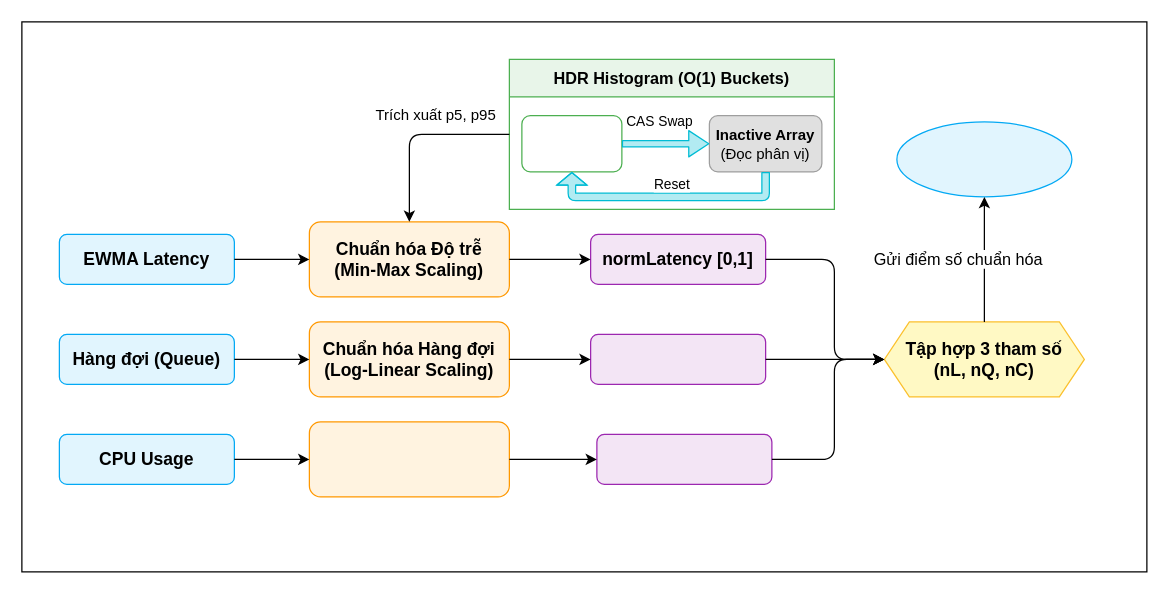
This 1169x594 diagram has some shape labels left out. The centre of each missing label's shape, as x and y in pixels:
Active Array (Ghi dữ liệu): point (571, 143)
Chuẩn hóa CPU (Clamp Scaling): point (408, 459)
normCpu [0,1]: point (684, 458)
normQueue [0,1]: point (677, 358)
Thuật toán MCDM (Trọng số động): point (984, 159)
